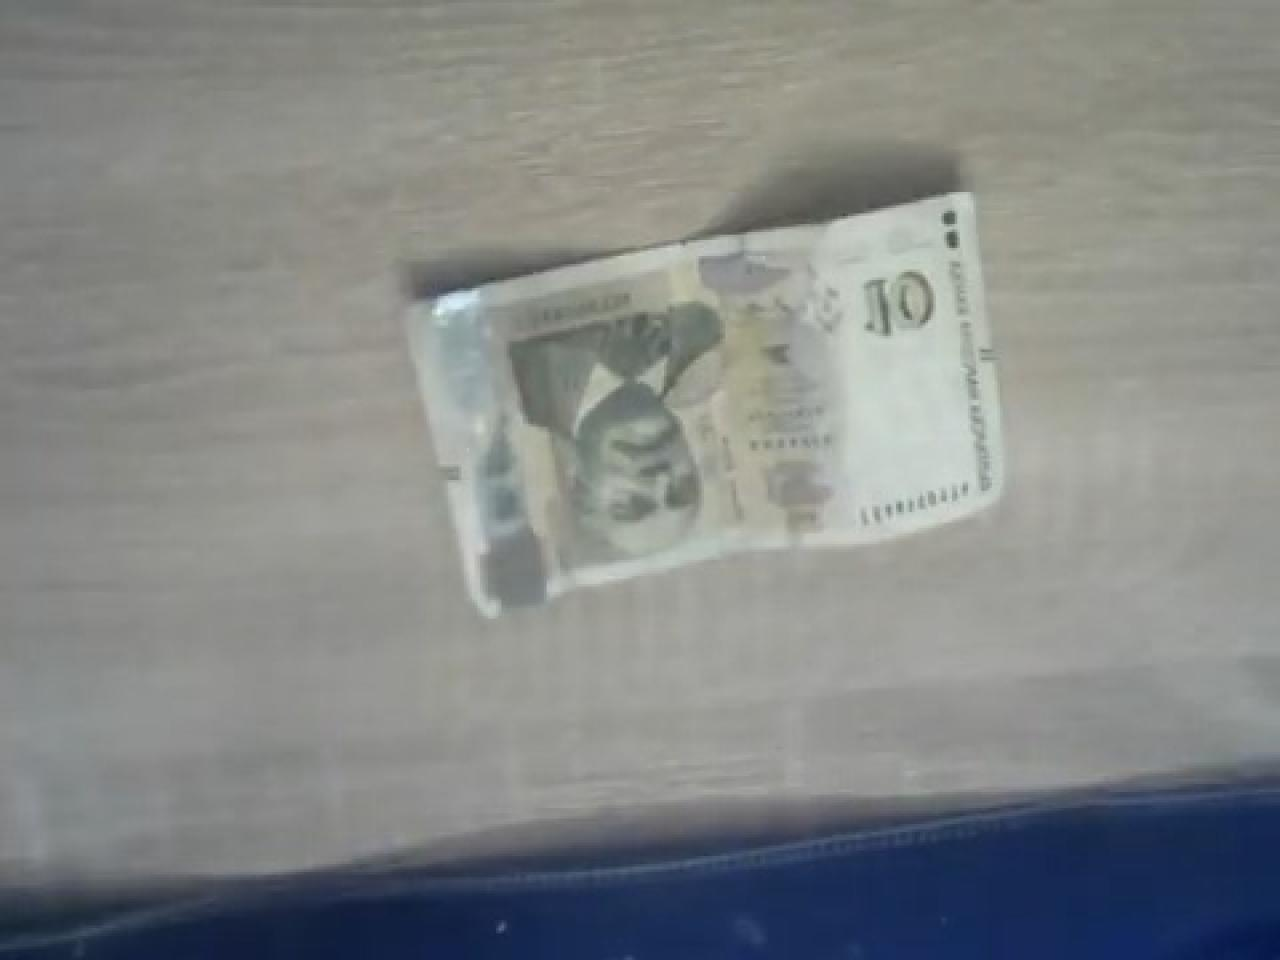10leva: (400, 190, 1005, 621)
